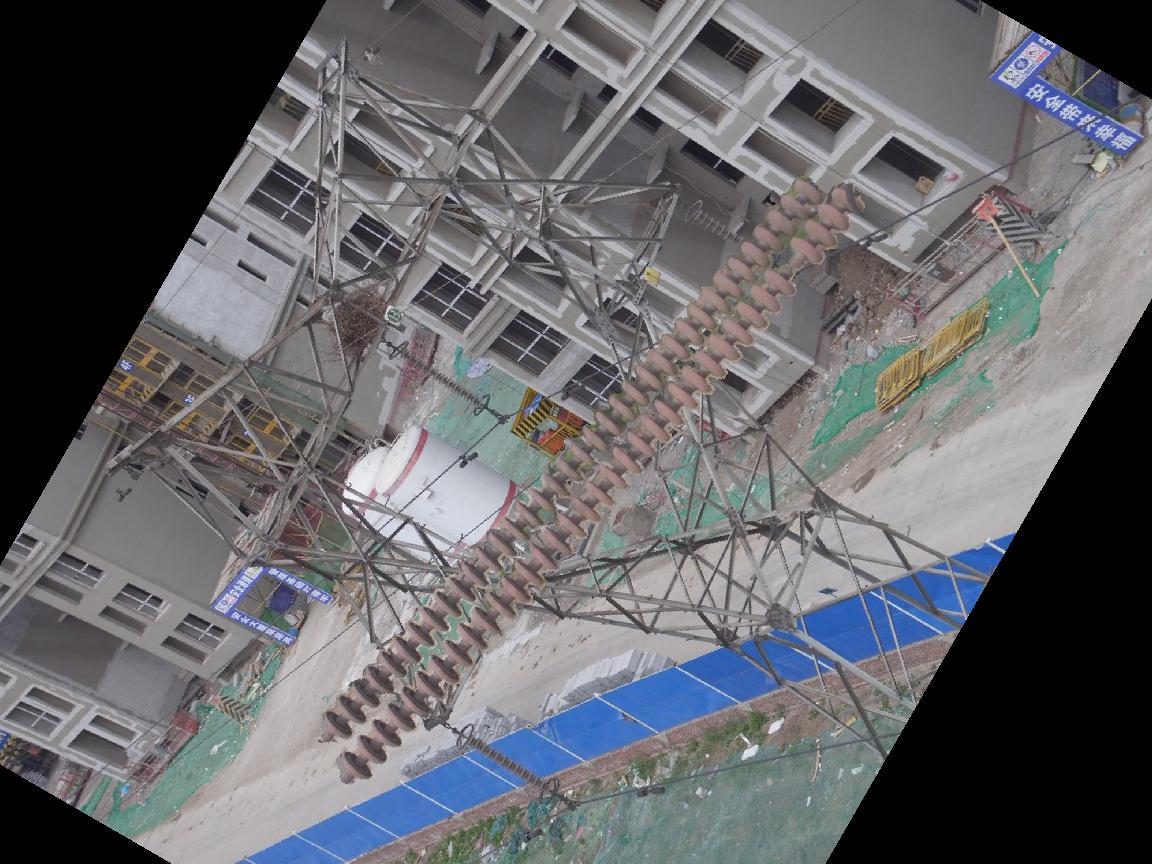insulator: (318, 173, 874, 791), (460, 730, 550, 793), (394, 345, 482, 408), (688, 202, 747, 250)
insulator_stringdrop: (763, 234, 827, 297)
